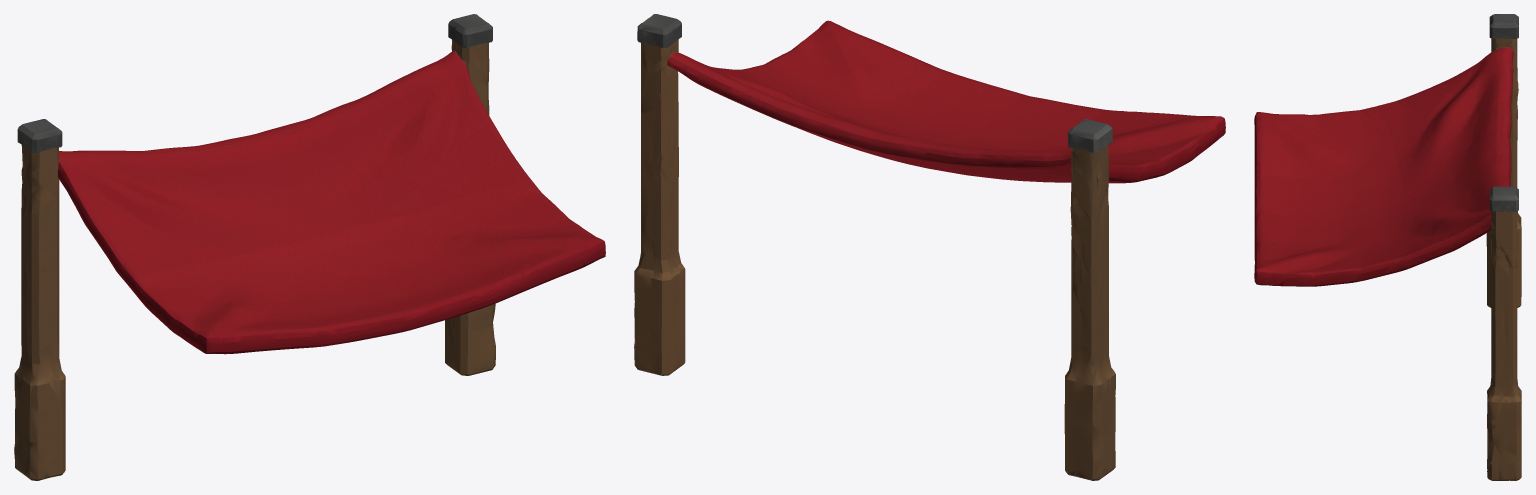
File: canopy.glb
3 renders of one model, left to right at view 1: azimuth 30°, elevation 25°; view 2: azimuth 150°, elevation 25°; view 3: azimuth 270°, elevation 25°, orthographic. The views are drawn at different scales.
Bounding box in the file's own units: 1.9 × 1.34 × 1.15.
1 material, 1 textured.
